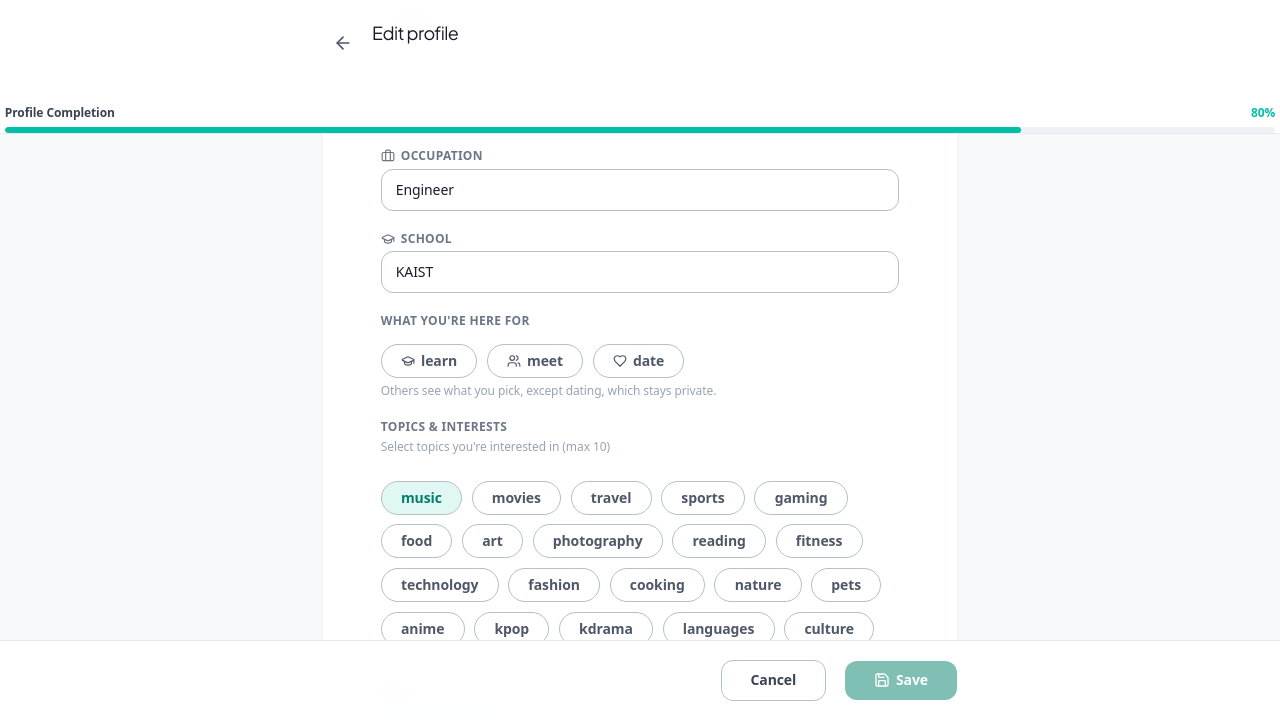
completion › shows how far along the profile is, and moves as it is filled
This screenshot has width=1280, height=720.
(page scrolled)
Expected: the text with test id "edit-completion-percent" reads "80%", [1251, 105, 1275, 121]
Click the button with test id "edit-intent-learn": [429, 361] box [381, 344, 477, 378]
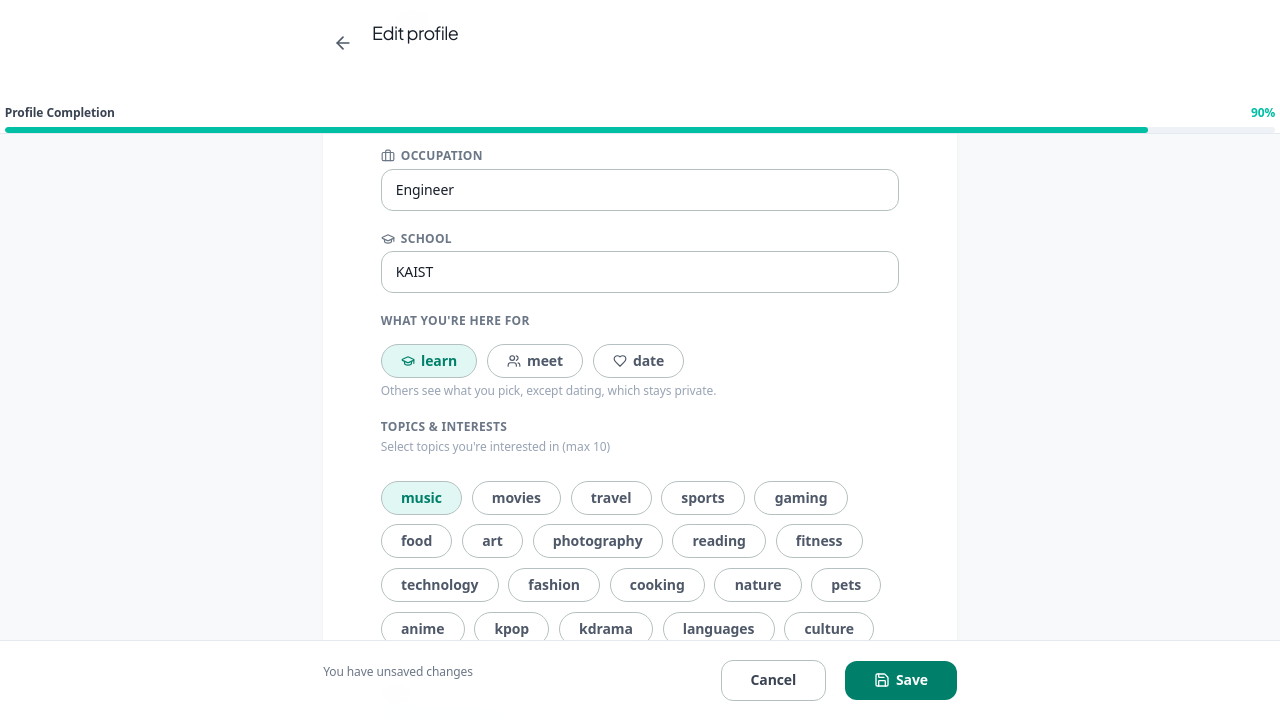
Expected: the text with test id "edit-completion-percent" reads "90%", [1251, 105, 1275, 121]
